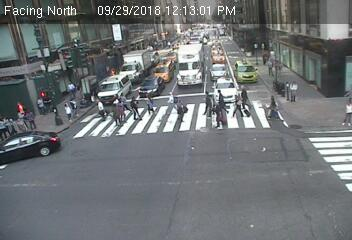car: (1, 132, 62, 163), (97, 74, 132, 106), (178, 45, 203, 84), (120, 49, 150, 78), (212, 76, 239, 102), (234, 59, 258, 84), (139, 76, 164, 97), (153, 60, 174, 81), (210, 62, 227, 80), (211, 50, 226, 65), (206, 28, 221, 40), (165, 51, 179, 62), (187, 34, 202, 42), (190, 28, 205, 36), (211, 43, 222, 50)
